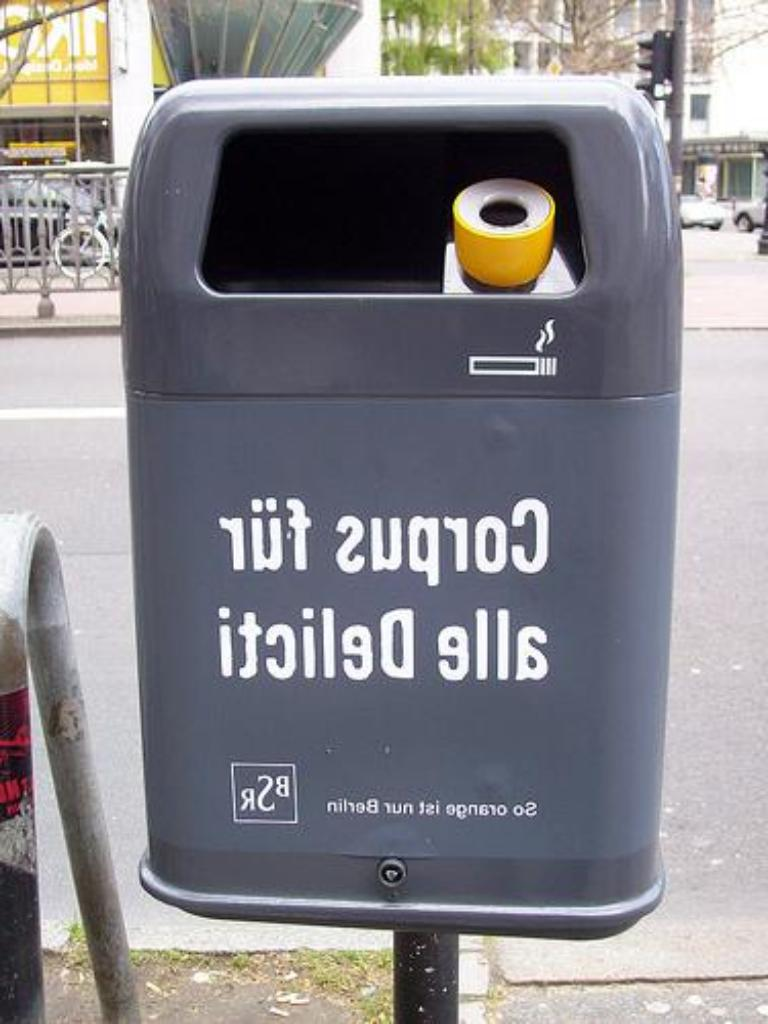dustbin: (121, 56, 680, 963)
